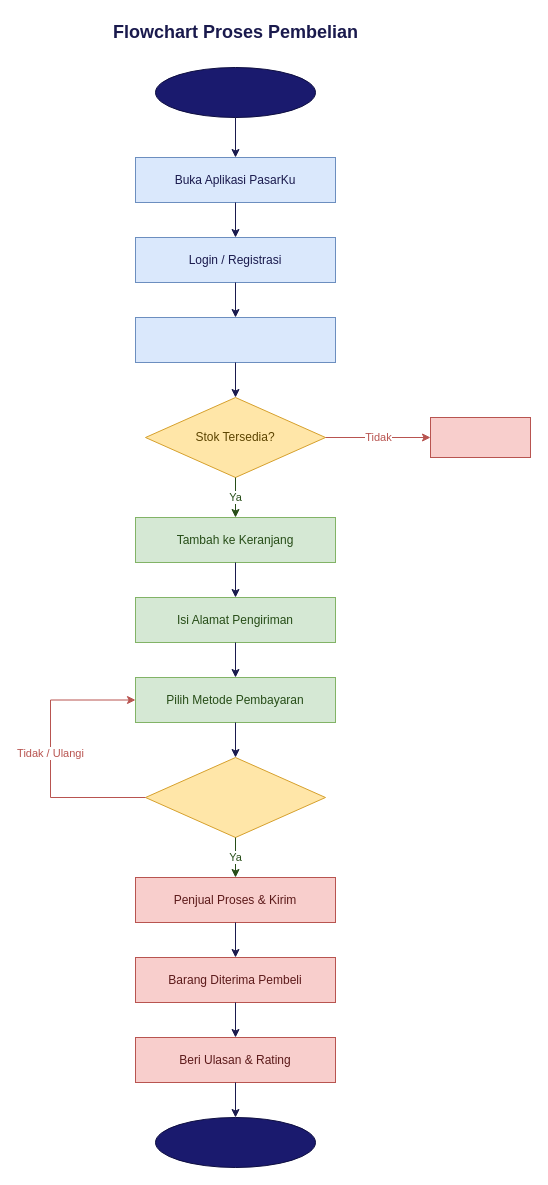
Some shapes in this 548 by 1185 pixel diagram are drawn without their labels. The box of each missing label's shape, as (x1, y1, x2, y2) in pixels:
Cari & Pilih Produk: (134, 316, 336, 362)
Habis: (430, 416, 530, 458)
MULAI: (154, 66, 316, 118)
Pembayaran Sukses?: (144, 756, 326, 838)
SELESAI: (154, 1116, 316, 1168)
